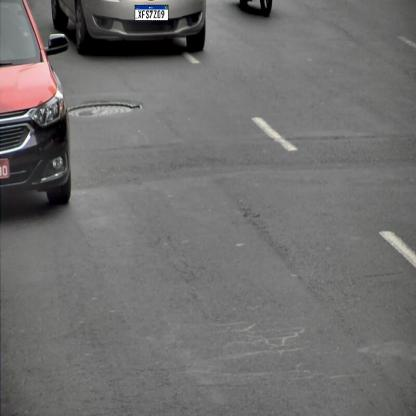PlacaM: (134, 5, 168, 21)
